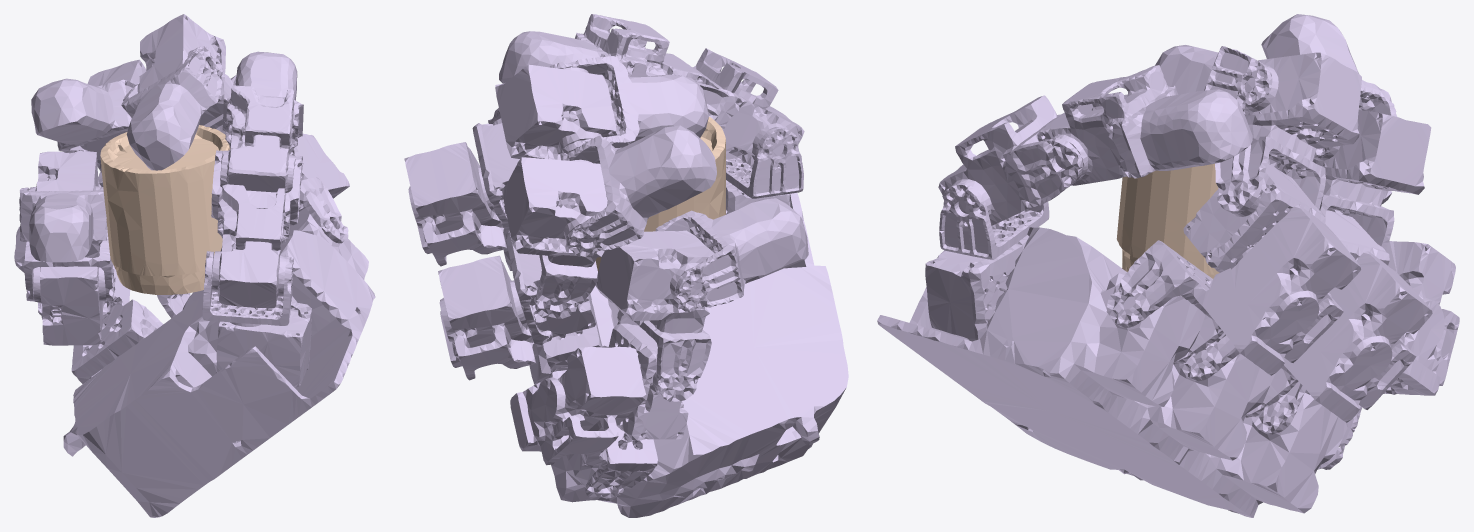
Rendered from 24cefc1a4b1016-closed.glb.
3 renders of one model, left to right at view 1: azimuth 30°, elevation 25°; view 2: azimuth 150°, elevation 25°; view 3: azimuth 270°, elevation 25°, orthographic. The views are drawn at different scales.
Visible parts, largest first — view 1: LEAP_hand, world; view 2: LEAP_hand, world; view 3: LEAP_hand, world.
Boxes of the visible parts, bbox=[...] form: LEAP_hand: bbox=[14, 14, 375, 517]; world: bbox=[100, 125, 230, 294]; LEAP_hand: bbox=[404, 14, 848, 517]; world: bbox=[595, 116, 725, 271]; LEAP_hand: bbox=[877, 14, 1459, 517]; world: bbox=[1116, 163, 1219, 278].
Size of the model in its own units: 0.152 by 0.18 by 0.1891.
